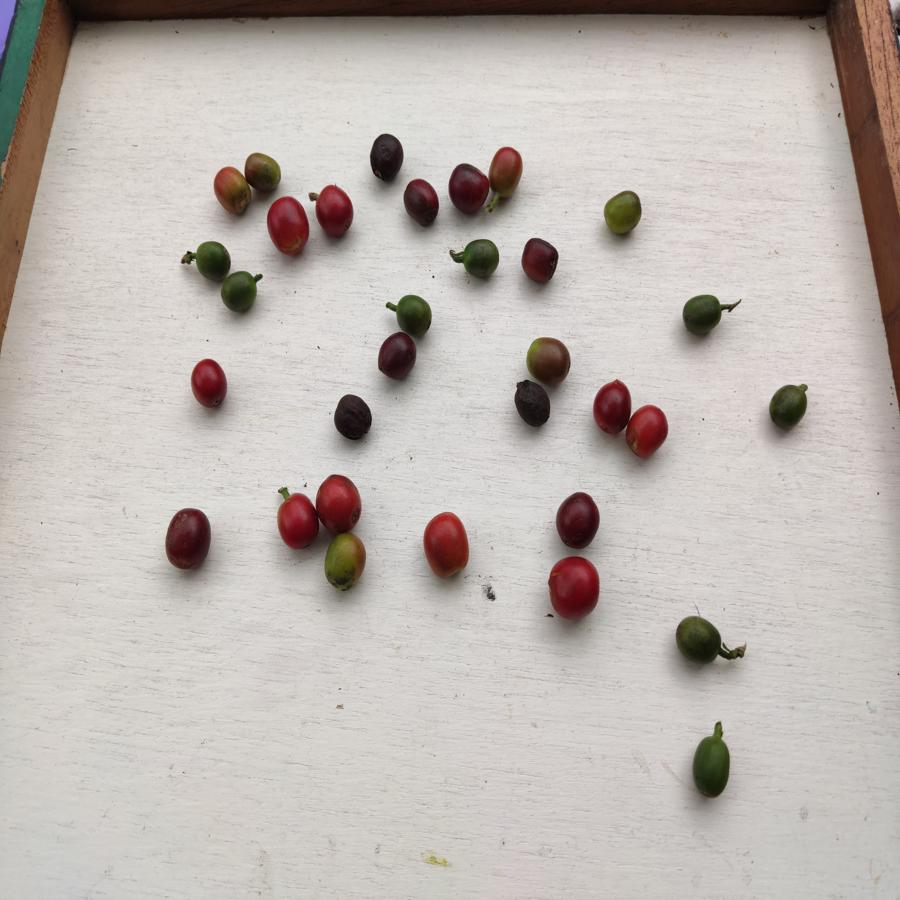Inmaduro: (675, 614, 723, 671), (691, 735, 733, 800), (602, 184, 645, 246), (768, 379, 808, 434), (460, 237, 503, 286), (680, 291, 723, 337), (219, 269, 263, 313), (393, 293, 437, 334), (193, 237, 232, 278)
Maduro: (544, 554, 608, 620), (420, 514, 474, 579), (264, 194, 314, 258), (314, 473, 363, 532), (314, 182, 356, 242), (277, 494, 320, 552), (189, 353, 229, 410), (629, 406, 669, 459)
Pinton: (323, 533, 369, 594), (525, 331, 573, 383), (490, 145, 529, 206), (211, 166, 253, 213), (243, 153, 283, 188)
Sobremaduro: (162, 509, 213, 573), (550, 490, 603, 550), (362, 131, 408, 190), (510, 382, 558, 433), (401, 177, 441, 237), (332, 389, 375, 444), (445, 160, 487, 215), (521, 234, 559, 291), (375, 331, 421, 378), (593, 376, 629, 434)
